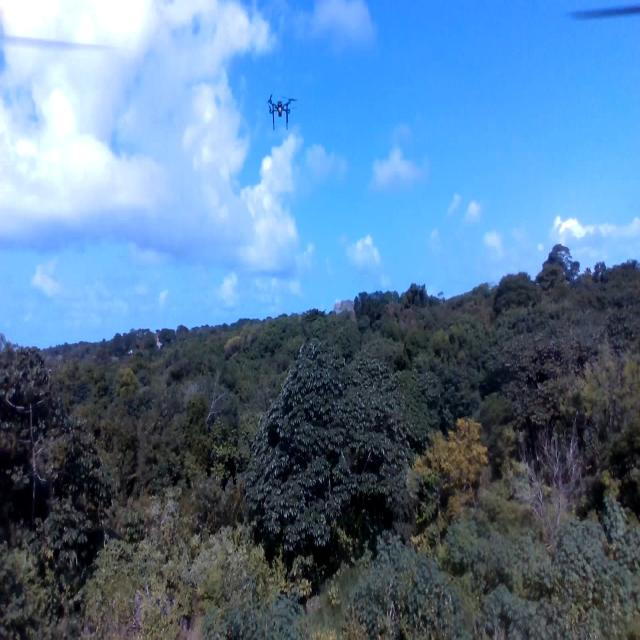-uav-: (262, 86, 303, 139)
